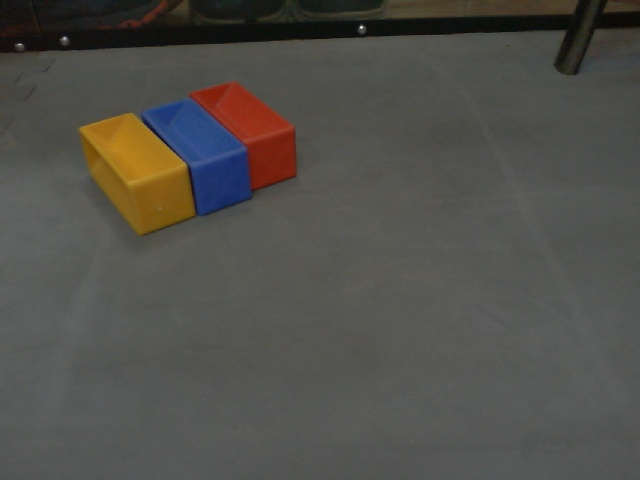BlueSample: (138, 98, 254, 216)
RedSample: (189, 80, 298, 192)
YellowSample: (78, 111, 195, 237)
